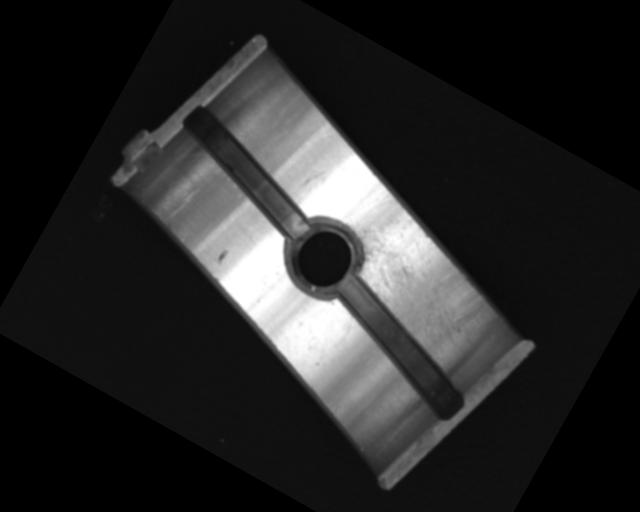bruise: (214, 245, 230, 265)
gap: (308, 273, 489, 424), (160, 101, 335, 242)
hole: (269, 204, 376, 312)
nick: (165, 180, 202, 228), (288, 160, 327, 205)
scratch: (308, 175, 521, 372)
